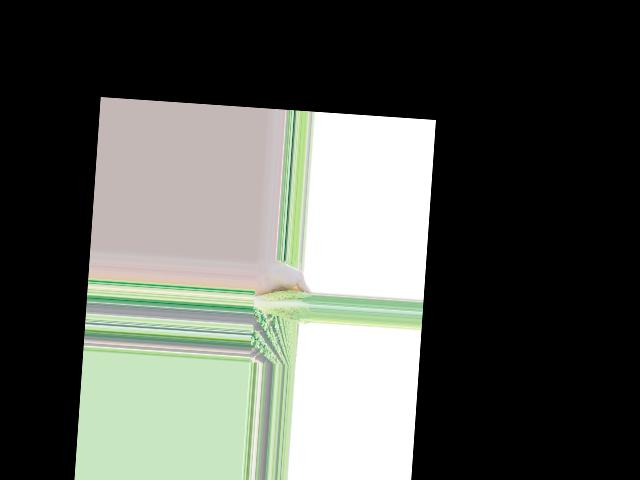lettuce: (251, 288, 311, 322)
